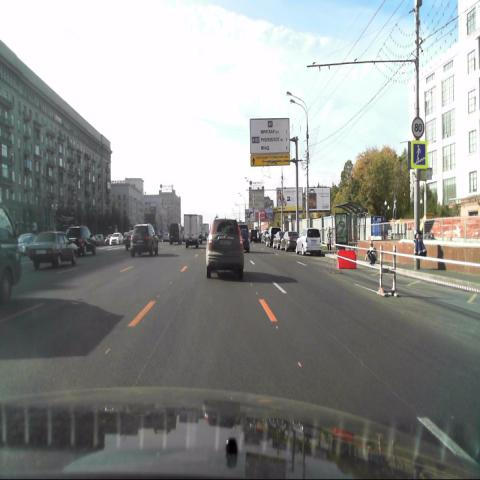6_6: (411, 140, 428, 170)
